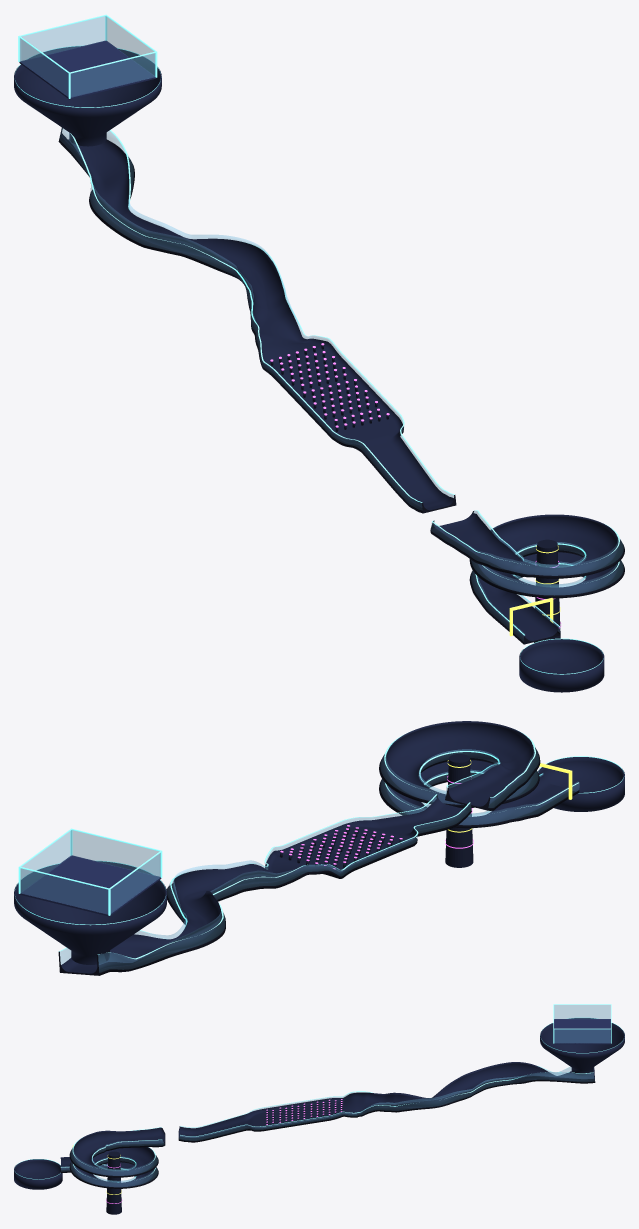
The model's file is neon.glb.
3 renders of one model, top to bottom at view 1: azimuth 30°, elevation 25°; view 2: azimuth 150°, elevation 25°; view 3: azimuth 270°, elevation 25°, orthographic. The views are drawn at different scales.
Parts seen in each view (by area): view 1: MB2_Track, MB2_Funnel, MB2_GATE, MB2_Bowl, MB2_BoxN, MB2_BoxS, MB2_Pegs, MB2_Tower, MB2_BoxE, MB2_BoxW; view 2: MB2_Track, MB2_Funnel, MB2_GATE, MB2_Bowl, MB2_BoxS, MB2_BoxN, MB2_Tower, MB2_Pegs, MB2_BoxE, MB2_BoxW; view 3: MB2_Track, MB2_Funnel, MB2_GATE, MB2_Bowl, MB2_BoxE, MB2_BoxW, MB2_Tower, MB2_Pegs.
Part boxes in pixels (box(x1,y1,x2,y2)): MB2_Track: box(58, 128, 624, 644); MB2_Funnel: box(14, 46, 161, 146); MB2_GATE: box(19, 40, 156, 99); MB2_Bowl: box(519, 639, 604, 692); MB2_BoxN: box(20, 16, 106, 61); MB2_BoxS: box(71, 53, 155, 97); MB2_Pegs: box(270, 343, 389, 431); MB2_Tower: box(534, 539, 560, 642); MB2_BoxE: box(106, 16, 154, 75); MB2_BoxW: box(20, 38, 68, 96); MB2_Track: box(58, 721, 579, 975); MB2_Funnel: box(14, 861, 166, 964); MB2_GATE: box(19, 855, 161, 916); MB2_Bowl: box(538, 757, 624, 811); MB2_BoxS: box(71, 830, 160, 876); MB2_BoxN: box(20, 868, 107, 913); MB2_Tower: box(445, 754, 473, 867); MB2_Pegs: box(279, 825, 402, 869); MB2_BoxE: box(21, 830, 71, 891); MB2_BoxW: box(111, 853, 160, 913); MB2_Track: box(60, 1062, 595, 1188); MB2_Funnel: box(540, 1018, 624, 1075); MB2_GATE: box(554, 1019, 610, 1044); MB2_Bowl: box(14, 1159, 62, 1189); MB2_BoxE: box(554, 1029, 610, 1042); MB2_BoxW: box(554, 1005, 610, 1018); MB2_Tower: box(106, 1151, 121, 1214); MB2_Pegs: box(266, 1099, 342, 1127).
Size of the model in its own units: 49.67 by 81.62 by 250.
